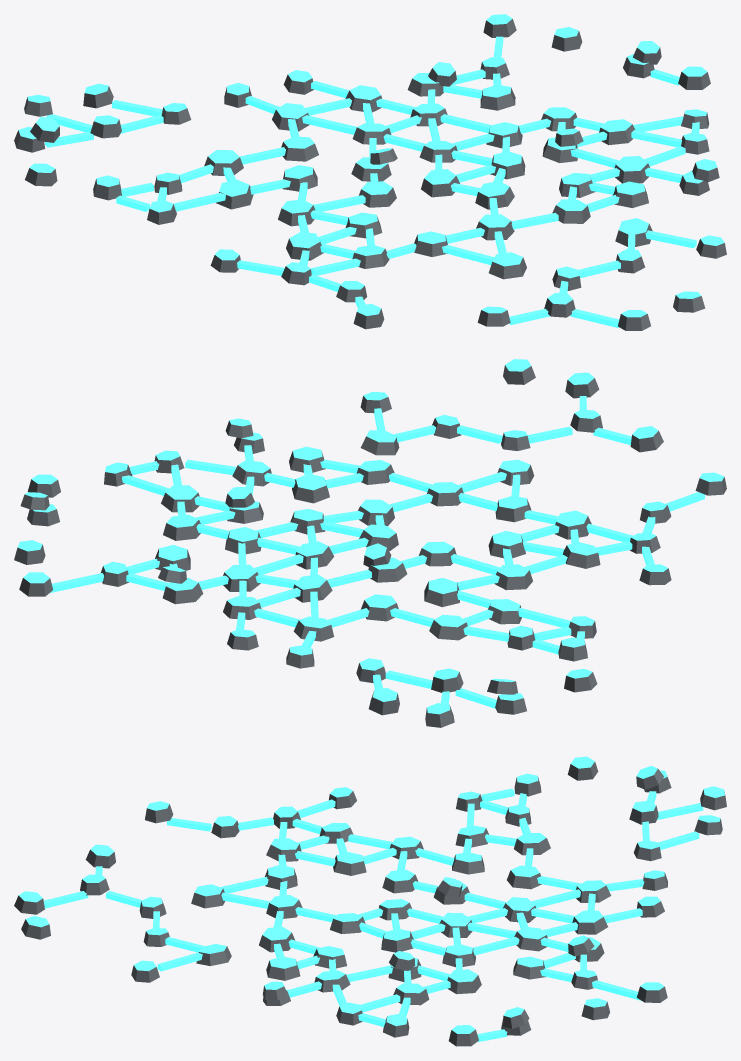
File: FX_NanoSwarm_Field.fbx
3 renders of one model, top to bottom at view 1: azimuth 30°, elevation 25°; view 2: azimuth 150°, elevation 25°; view 3: azimuth 270°, elevation 25°, orthographic. The views are drawn at different scales.
Parts seen in each view (by area): view 1: FX_NanoSwarm_Bots; view 2: FX_NanoSwarm_Bots; view 3: FX_NanoSwarm_Bots.
Boxes of the visible parts, x1,y1,x2,y2 form: FX_NanoSwarm_Bots: (14,14,726,330); FX_NanoSwarm_Bots: (14,359,726,727); FX_NanoSwarm_Bots: (14,756,726,1046).
Bounding box in the file's own units: 3.15 × 0.1723 × 3.4.
